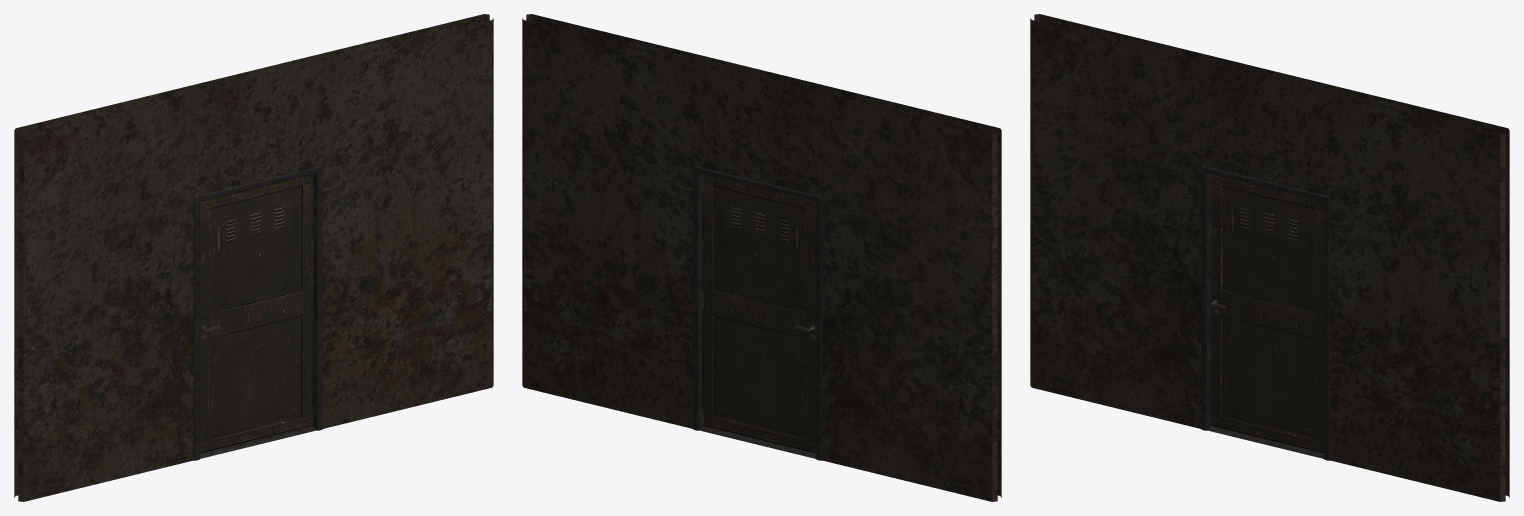
File: doorway_4_plain.obj
3 renders of one model, left to right at view 1: azimuth 30°, elevation 25°; view 2: azimuth 150°, elevation 25°; view 3: azimuth 330°, elevation 25°, orthographic.
Parts seen in each view (by area): view 1: doorway_4_plain, door_8; view 2: doorway_4_plain, door_8; view 3: doorway_4_plain, door_8.
Boxes of the visible parts, x1,y1,x2,y2 form: doorway_4_plain: (14,14,493,501); door_8: (200,174,313,453); doorway_4_plain: (522,14,1001,501); door_8: (700,174,816,453); doorway_4_plain: (1030,14,1509,501); door_8: (1210,174,1323,453).
Size of the model in its own units: 4.06 by 3 by 0.18.
